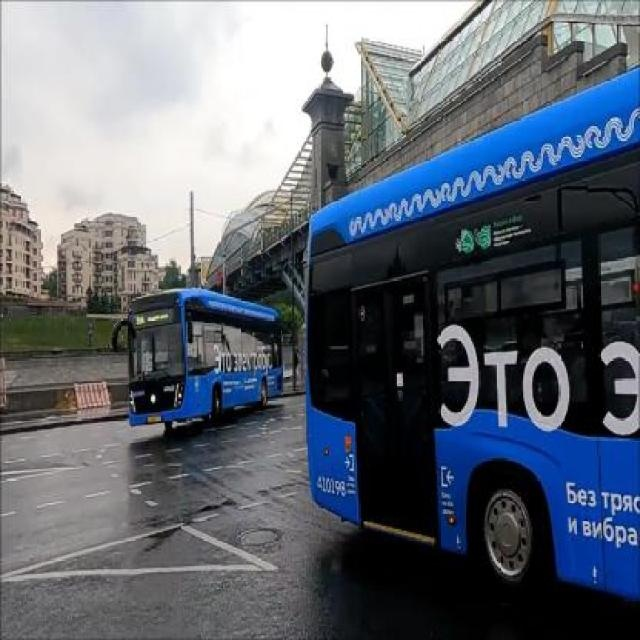Bus: (300, 66, 640, 600), (126, 287, 285, 430)
